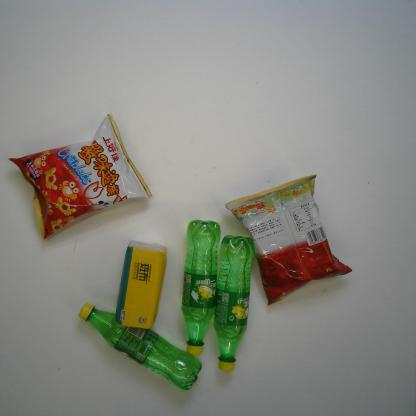Drink: (77, 302, 203, 391), (212, 234, 256, 373), (180, 218, 222, 356)
Puffed Food: (6, 112, 154, 242), (224, 174, 354, 307)
Tissue: (115, 239, 168, 330)
